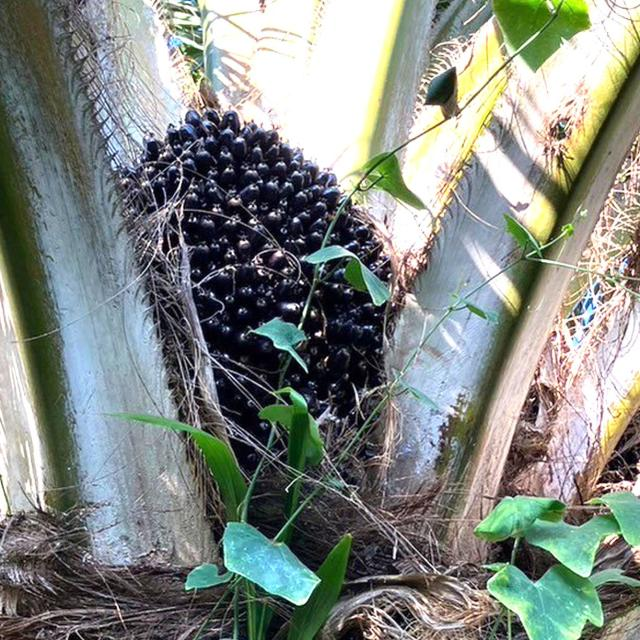almost: (103, 96, 410, 507)
